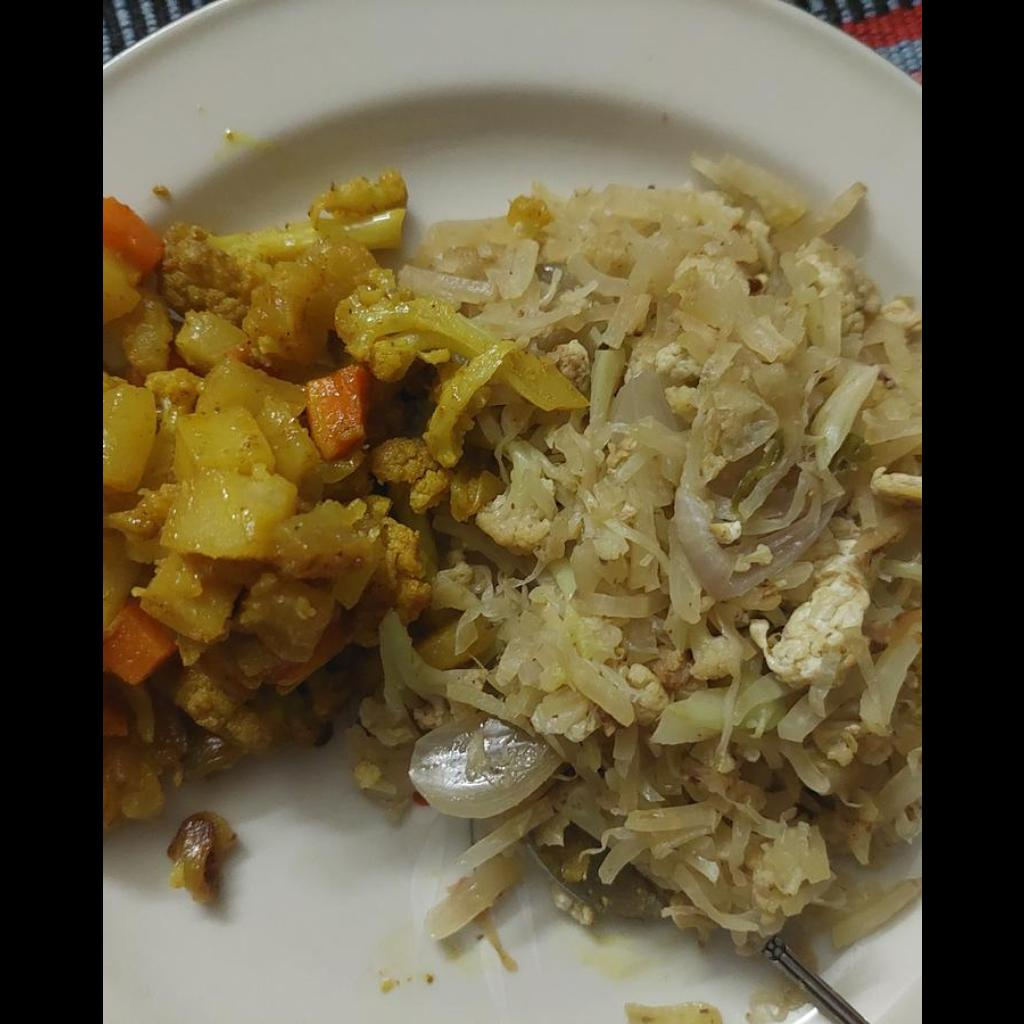vaji: (364, 159, 919, 952)
vegetable: (102, 177, 574, 827)
